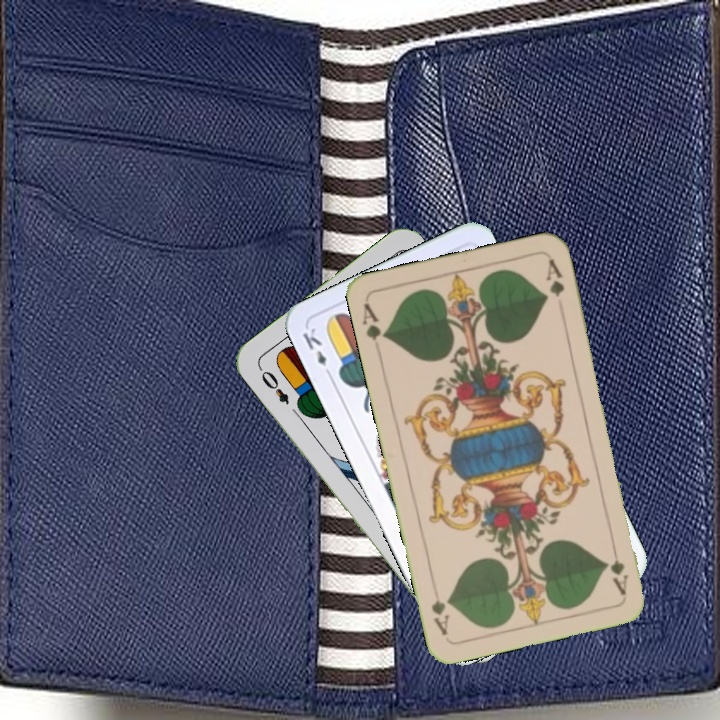EK: (298, 323, 335, 381)
EO: (254, 362, 292, 407)
GA: (358, 298, 391, 343), (606, 539, 631, 598)
